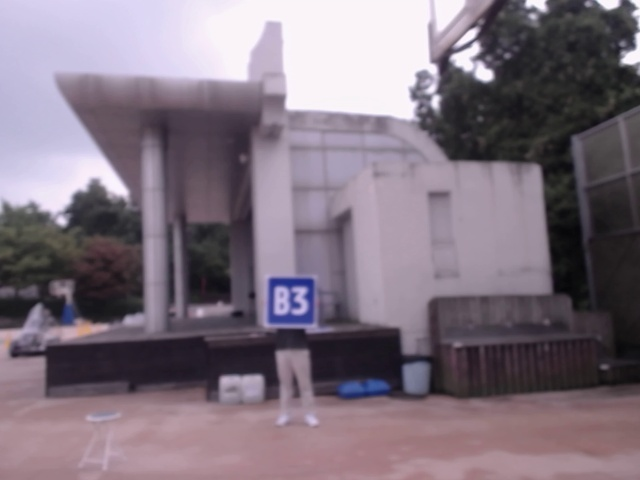delivery_b3: (267, 275, 317, 327)
